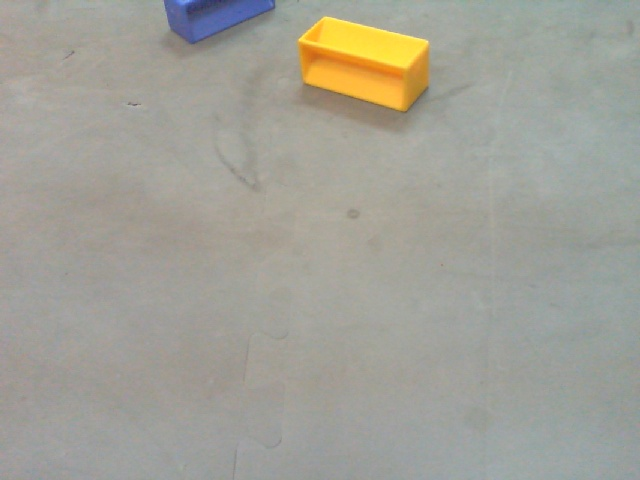BlueSample: (163, 1, 278, 47)
YellowSample: (297, 14, 433, 115)
